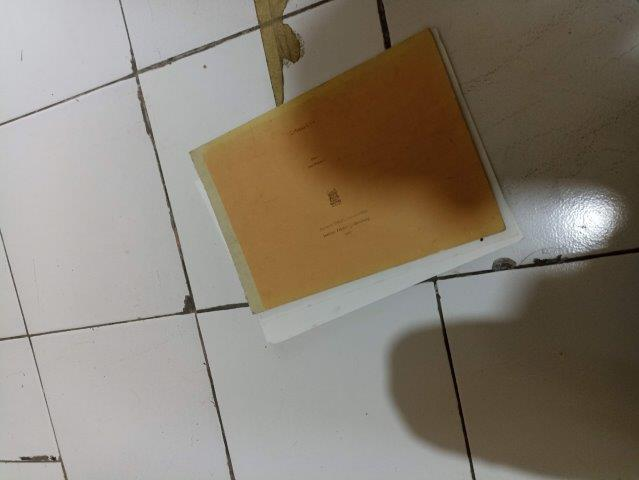kertas: (189, 28, 523, 340)
